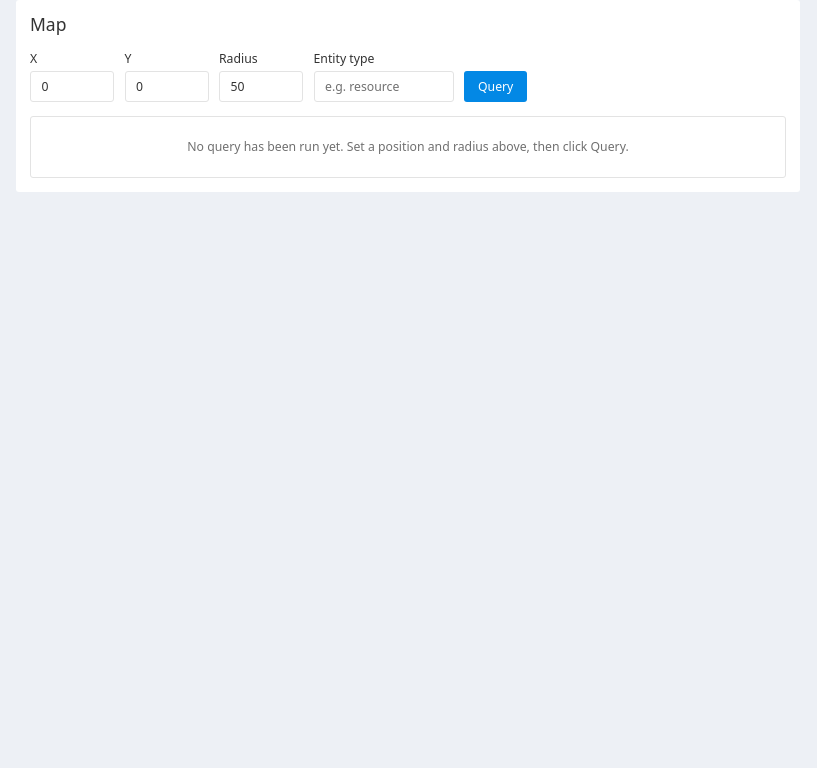
it: MapPage -- snapshot labelling (brief rule 3) › shows when the result was fetched, and a refresh control
Click the button with test id "query-button": (496, 87) [464,71,527,102]
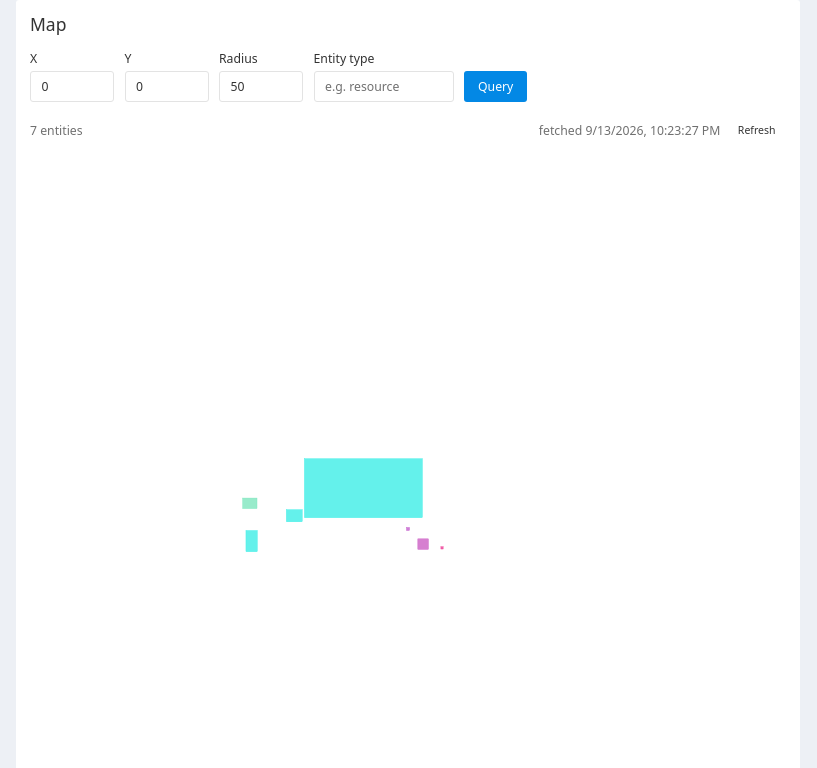
Expected: the text "fetched 9/13/2026, 10:23:27 PM" is shown, [539,122,720,139]
Expected: the button with test id "refresh-button" is shown, [727,116,786,144]
